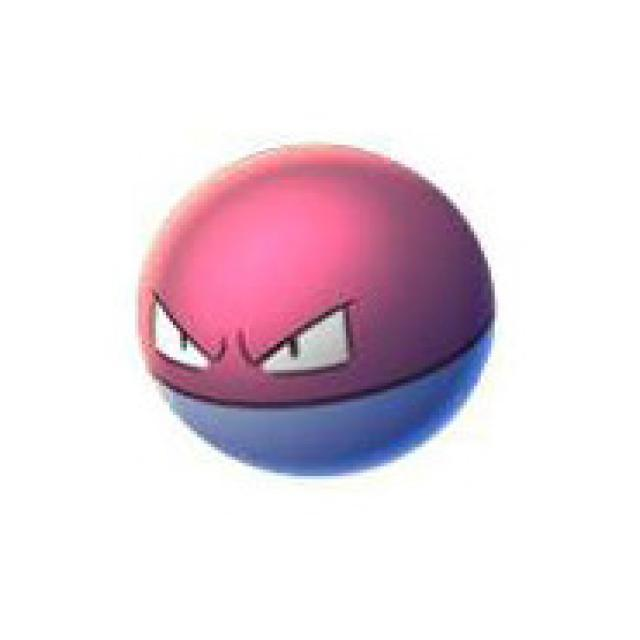Voltorb: (130, 140, 499, 480)
